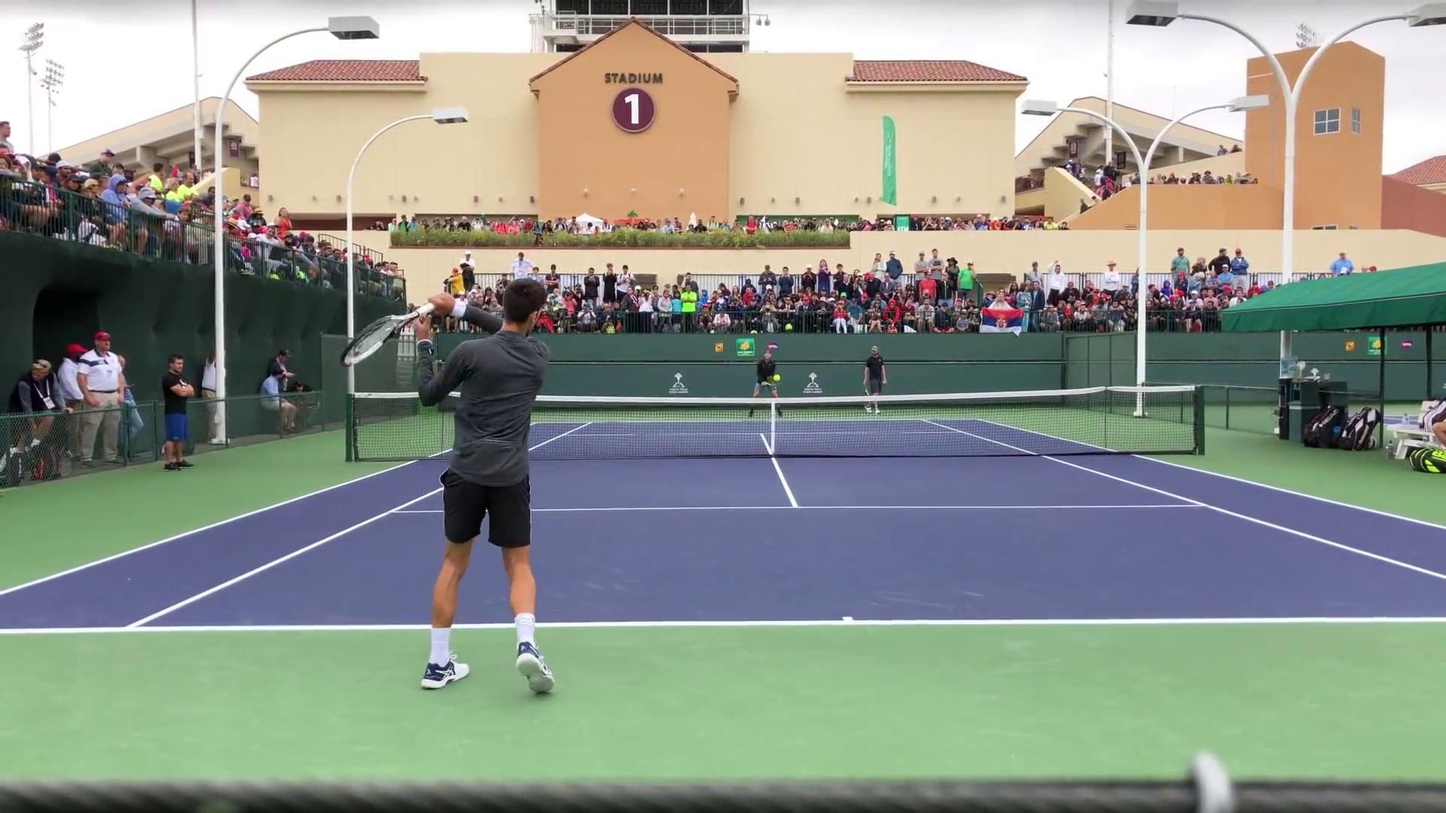ball: (773, 371, 782, 383), (867, 408, 872, 413)
